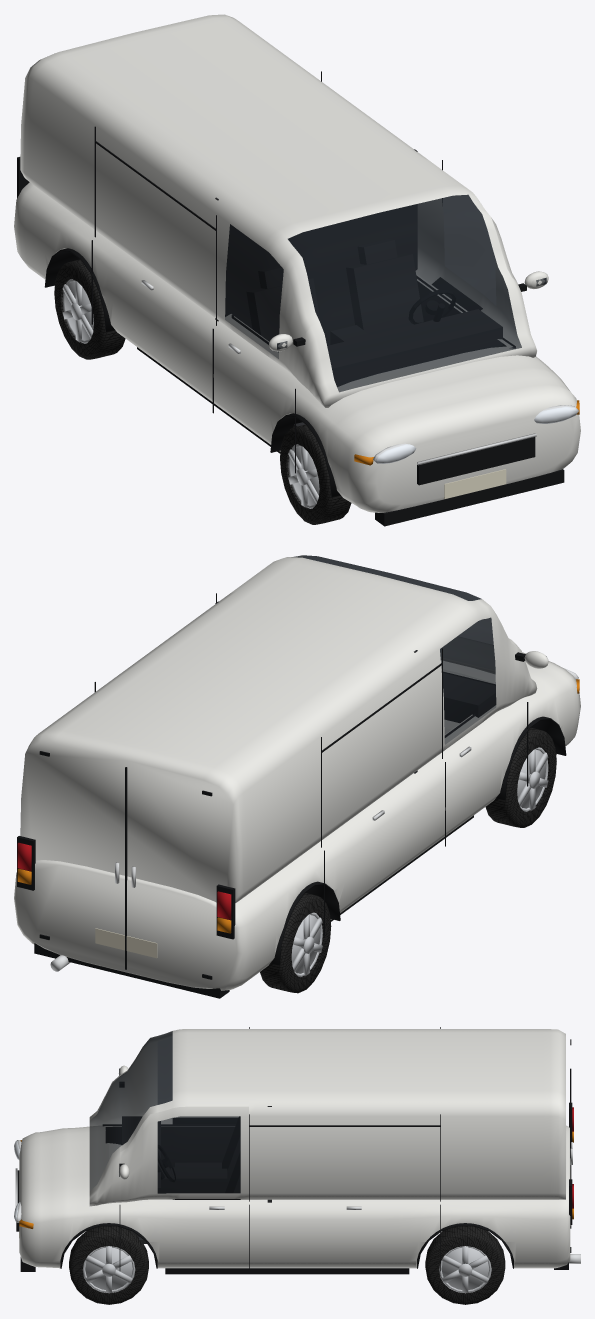
The model's file is car_van.glb.
3 views of the same model, one above another, from view 1: azimuth 30°, elevation 25°; view 2: azimuth 150°, elevation 25°; view 3: azimuth 270°, elevation 25° (orthographic). The views are drawn at different scales.
Parts seen in each view (by area): view 1: Body, Door_L, wheel_FR, wheel_RR; view 2: Body, wheel_RR, wheel_FR; view 3: Body, Door_L, wheel_RL, wheel_FL.
Boxes of the visible parts, x1,y1,x2,y2 form: Body: (14,14,580,526); Door_L: (417,195,548,340); wheel_FR: (280,424,351,524); wheel_RR: (54,259,125,359); Body: (14,555,580,998); wheel_RR: (260,893,331,993); wheel_FR: (485,727,556,827); Body: (14,1027,580,1274); Door_L: (120,1106,248,1268); wheel_RL: (425,1226,505,1304); wheel_FL: (69,1226,148,1304).
Bounding box in the file's own units: 2.36 × 2.05 × 5.25.
Materials: 12 (1 with a texture image).
